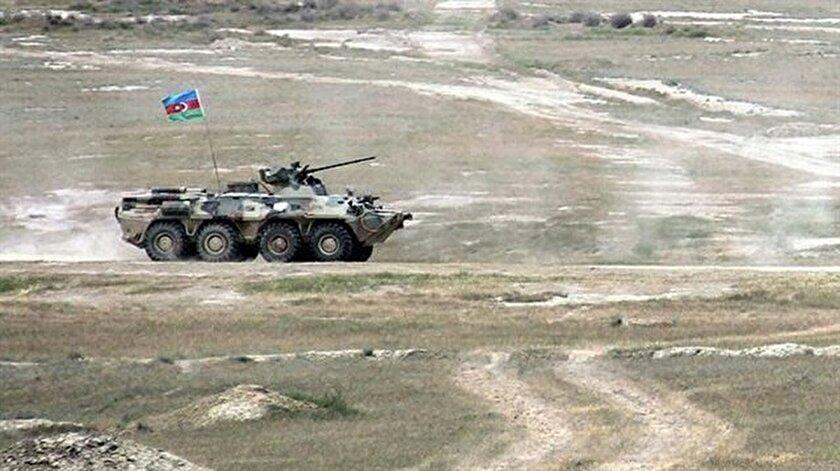tank: (114, 155, 413, 263)
